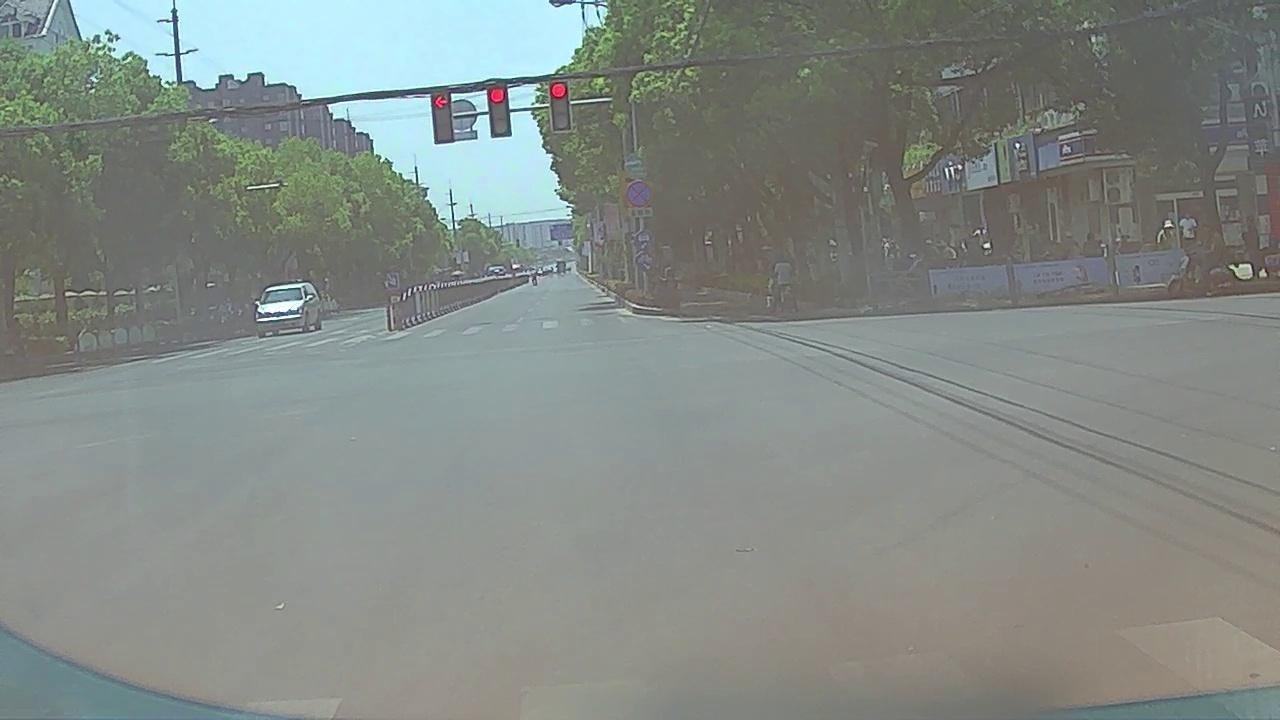traffic_light: (488, 86, 511, 133), (550, 81, 570, 131), (431, 94, 451, 143)
